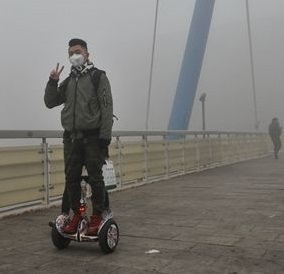person: (42, 36, 123, 254), (266, 115, 284, 160)
